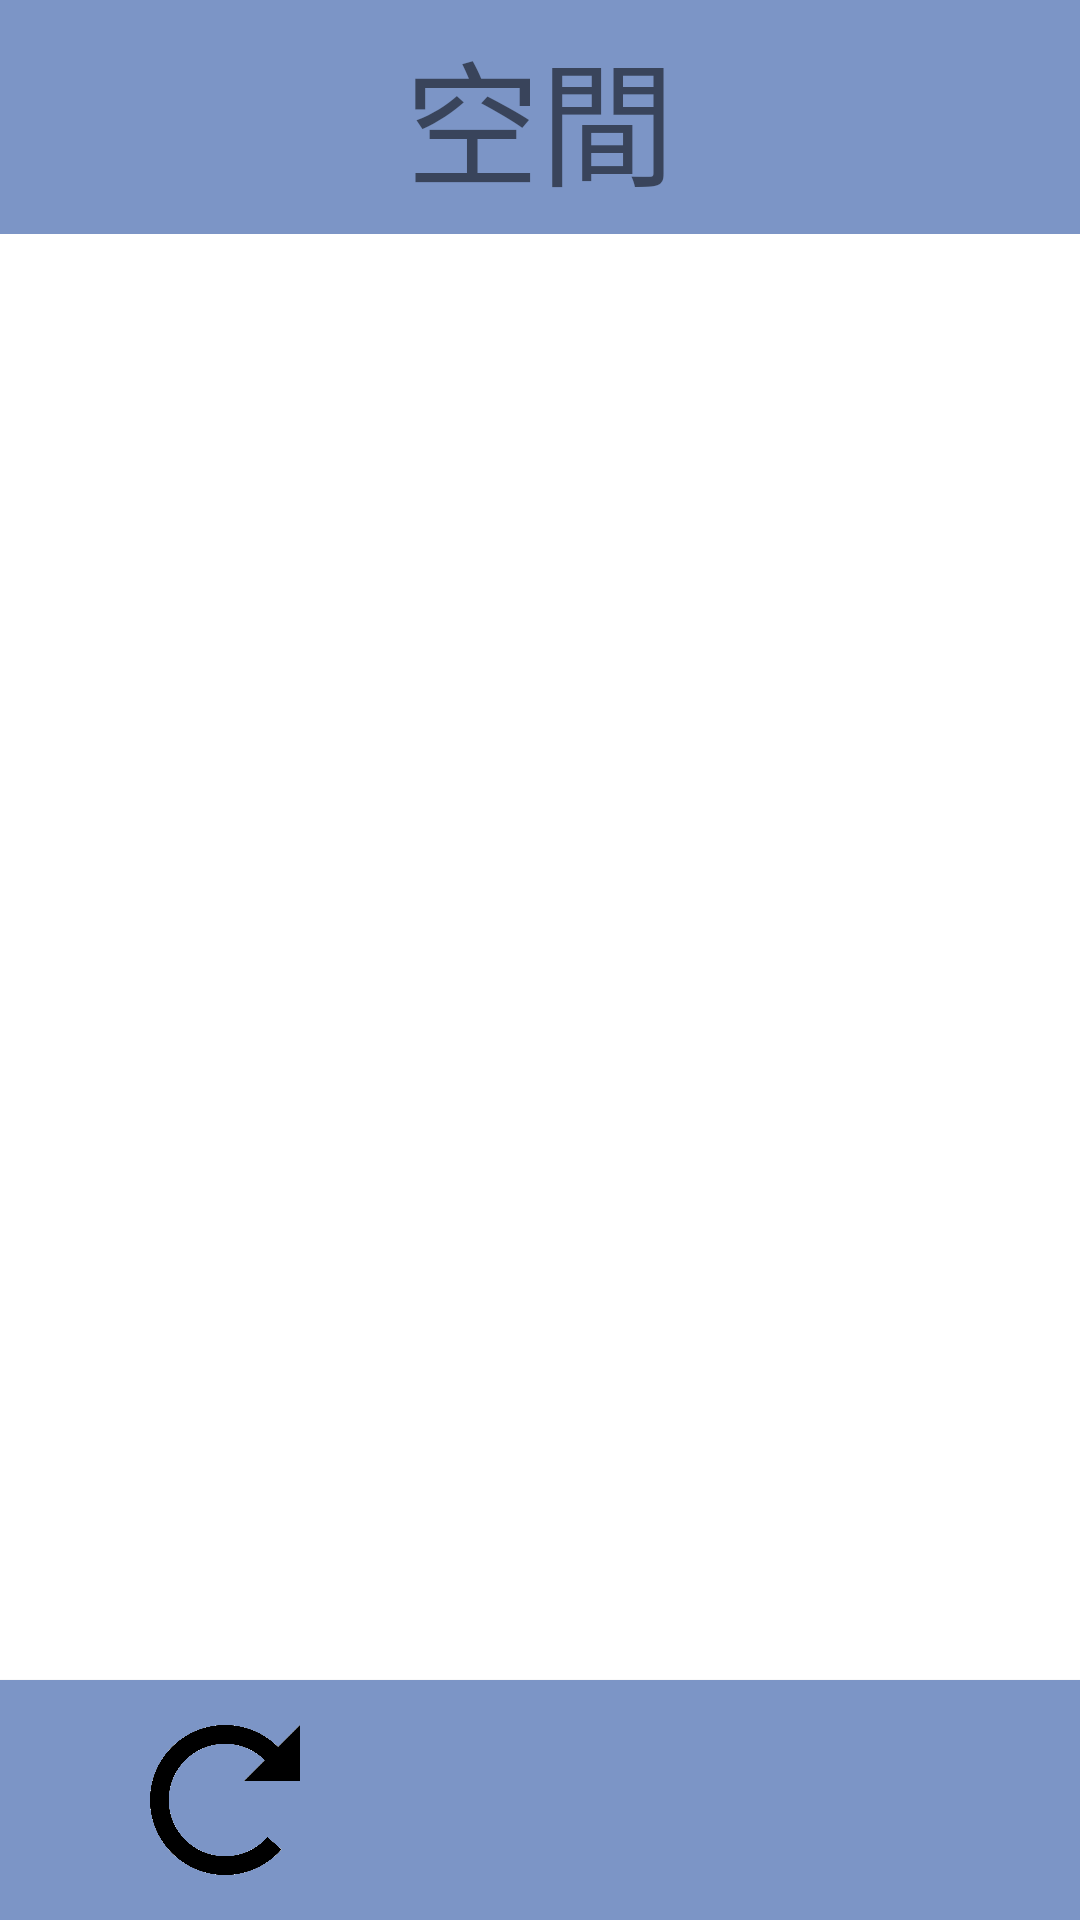

Icon bounding boxes for this 1080×1920 phone screenshot, format (x1, y1, x2, y2):
renewicon: (150, 1725, 300, 1875)
